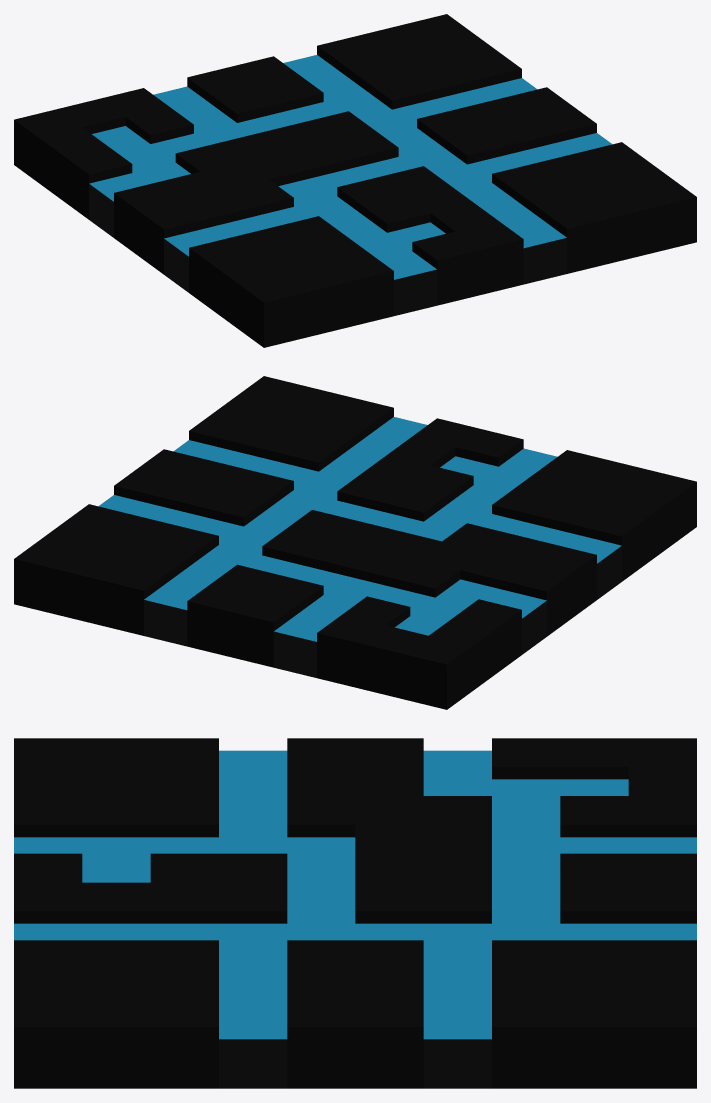
File: Ground-Porg.FBX
The picture shows the model from 3 angles, top to bottom: view 1: azimuth 30°, elevation 25°; view 2: azimuth 150°, elevation 25°; view 3: azimuth 270°, elevation 25°; orthographic projection. The views are drawn at different scales.
Parts seen in each view (by area): view 1: Box001; view 2: Box001; view 3: Box001.
Boxes of the visible parts, x1,y1,x2,y2 form: Box001: (14,14,696,347); Box001: (14,376,696,709); Box001: (14,738,696,1088).
Size of the model in its own units: 127 by 12.7 by 127.
